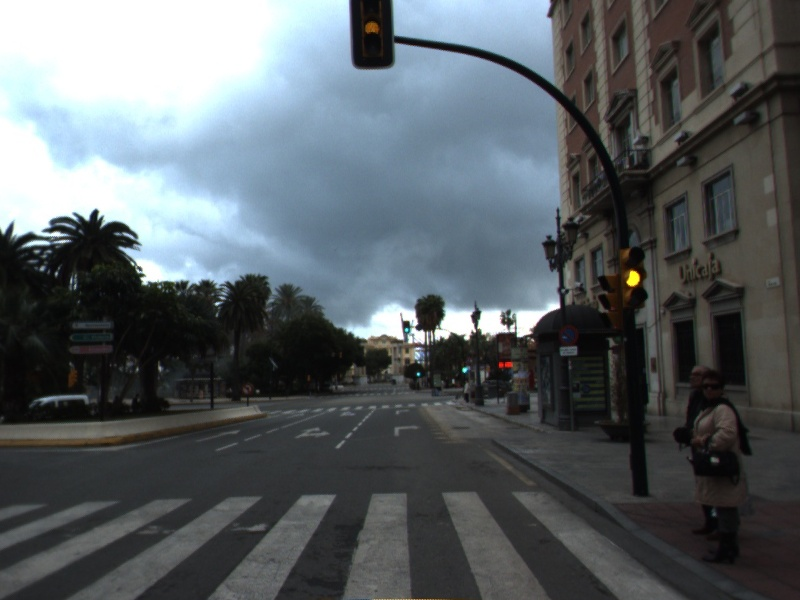RIGHT: (391, 422, 423, 439)
STRAIGHT: (193, 427, 242, 444)
STRAIGHT_RIGHT: (292, 425, 333, 441)
